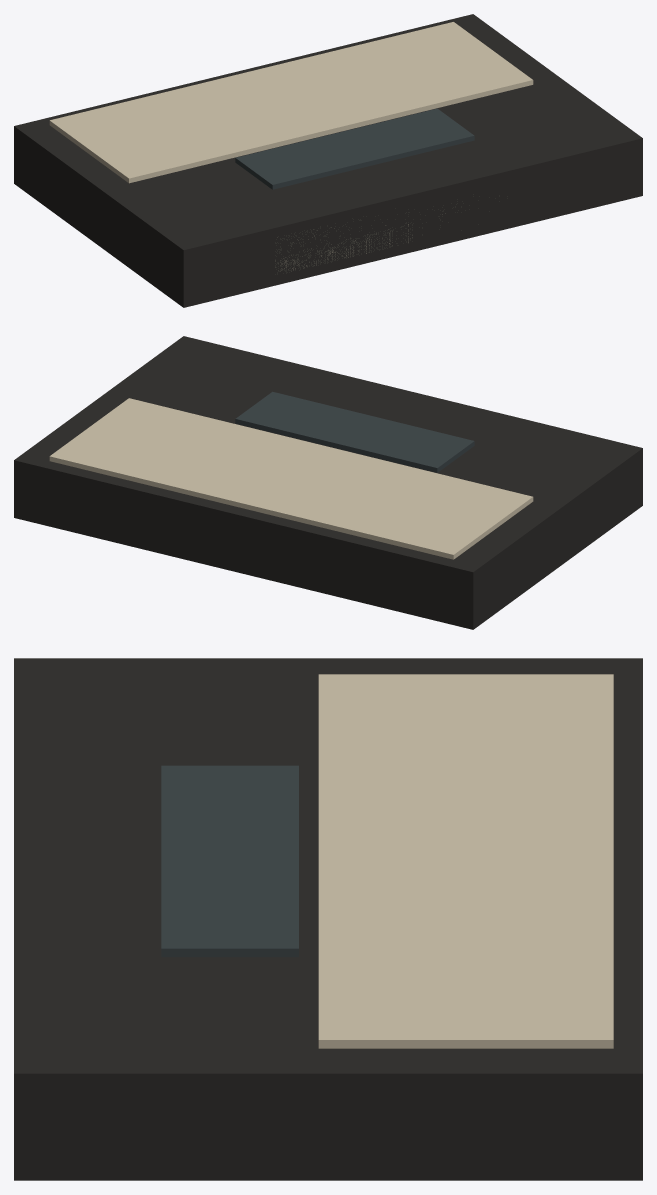
File: cassette-single.glb
3 renders of one model, top to bottom at view 1: azimuth 30°, elevation 25°; view 2: azimuth 150°, elevation 25°; view 3: azimuth 270°, elevation 25°, orthographic. The views are drawn at different scales.
Visible parts, largest first — view 1: plastic-dark, paper, glass; view 2: plastic-dark, paper, glass; view 3: plastic-dark, paper, glass.
Part boxes in pixels (x1,y1,x2,y2): plastic-dark: (14, 14, 642, 307); paper: (49, 22, 533, 183); glass: (235, 108, 474, 189); plastic-dark: (14, 336, 642, 629); paper: (49, 398, 533, 559); glass: (235, 391, 474, 472); plastic-dark: (14, 658, 642, 1180); paper: (318, 674, 613, 1048); glass: (161, 765, 298, 957).
Bounding box in the file's own units: 0.1 × 0.013 × 0.064.
